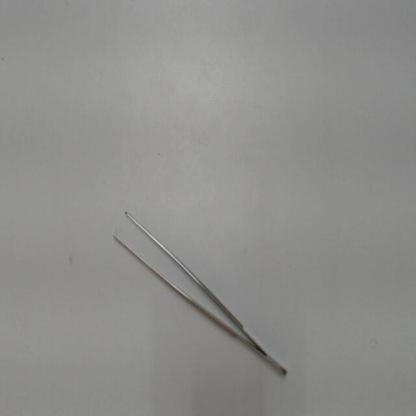Gillies Toothed Dissector: (110, 197, 294, 384)
